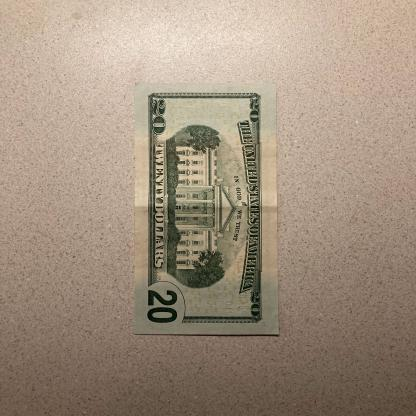twenty-back: (132, 82, 280, 336)
